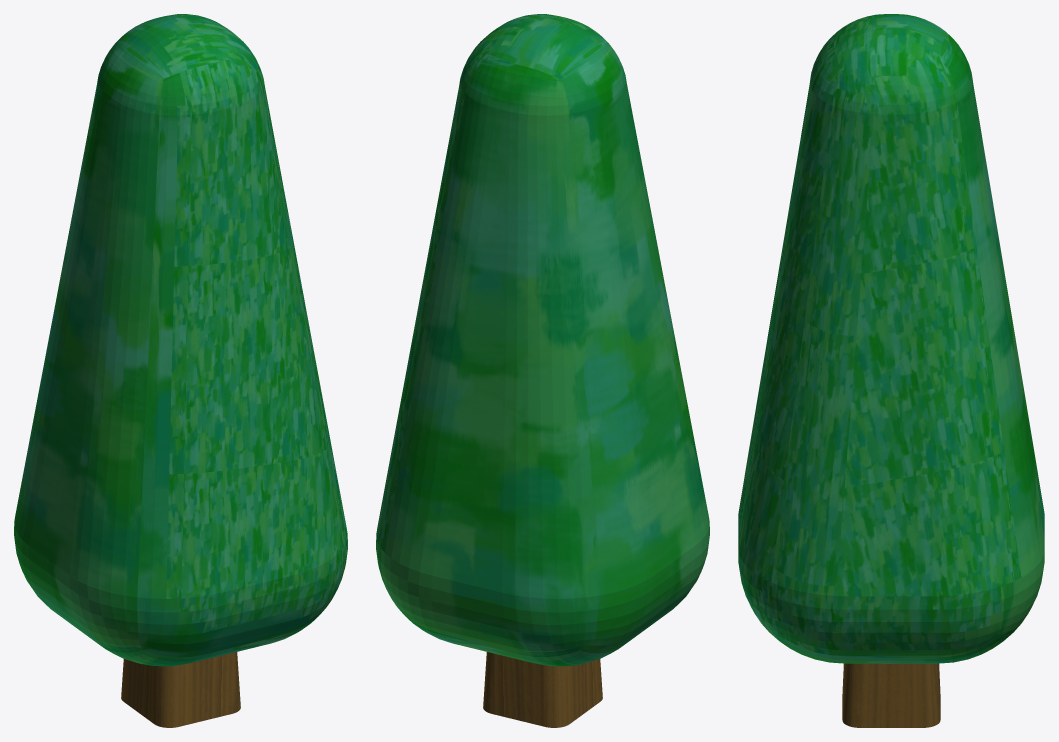
Rendered from кипарис.fbx.
3 views of the same model, side by side, from view 1: azimuth 30°, elevation 25°; view 2: azimuth 150°, elevation 25°; view 3: azimuth 270°, elevation 25° (orthographic).
Visible parts, largest first — view 1: Cube.026, Cube.027; view 2: Cube.026, Cube.027; view 3: Cube.026, Cube.027.
Part boxes in pixels (x1,y1,x2,y2): Cube.026: [14, 14, 347, 666]; Cube.027: [121, 652, 240, 727]; Cube.026: [376, 14, 709, 666]; Cube.027: [483, 652, 602, 727]; Cube.026: [738, 14, 1044, 663]; Cube.027: [842, 663, 940, 727].
Size of the model in its own units: 144 by 355 by 144.
